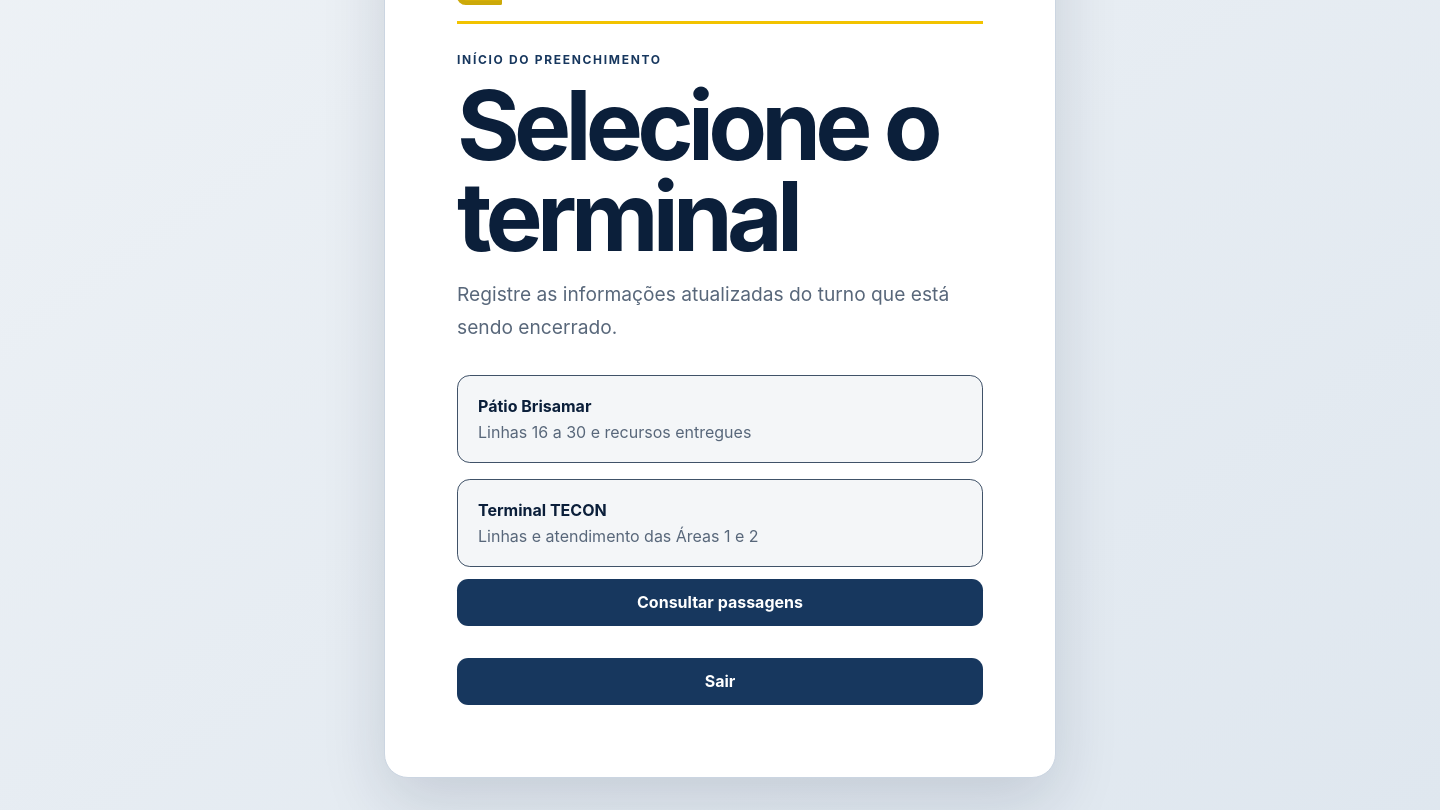
shell React › encerra a sessão sem expor o token
(page scrolled)
Click the button "Sair": (720, 681) x1=457 y1=658 x2=983 y2=705
(page scrolled)
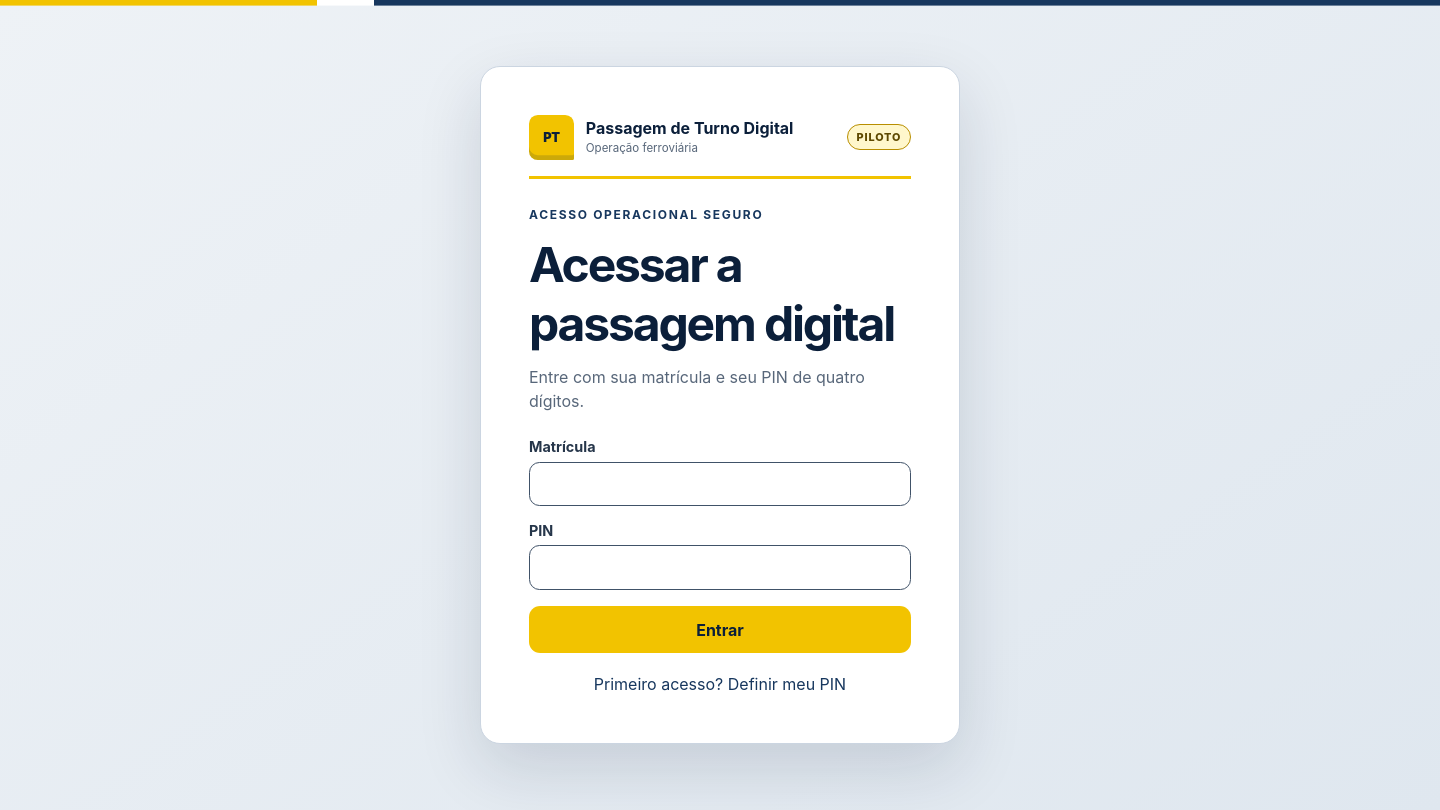
Expected: the heading "Acessar a passagem digital" is shown, x1=529 y1=234 x2=911 y2=352
